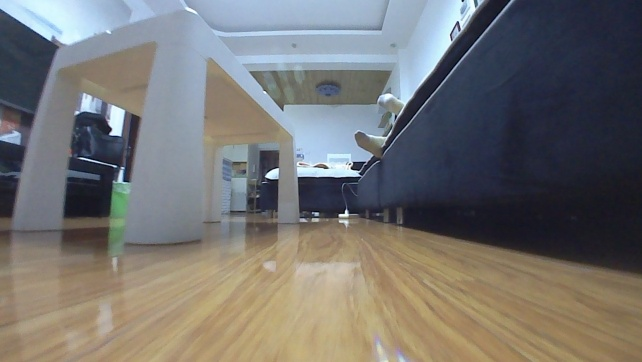TV_stand1: (0, 133, 117, 221)
sofa1: (250, 0, 641, 229)
